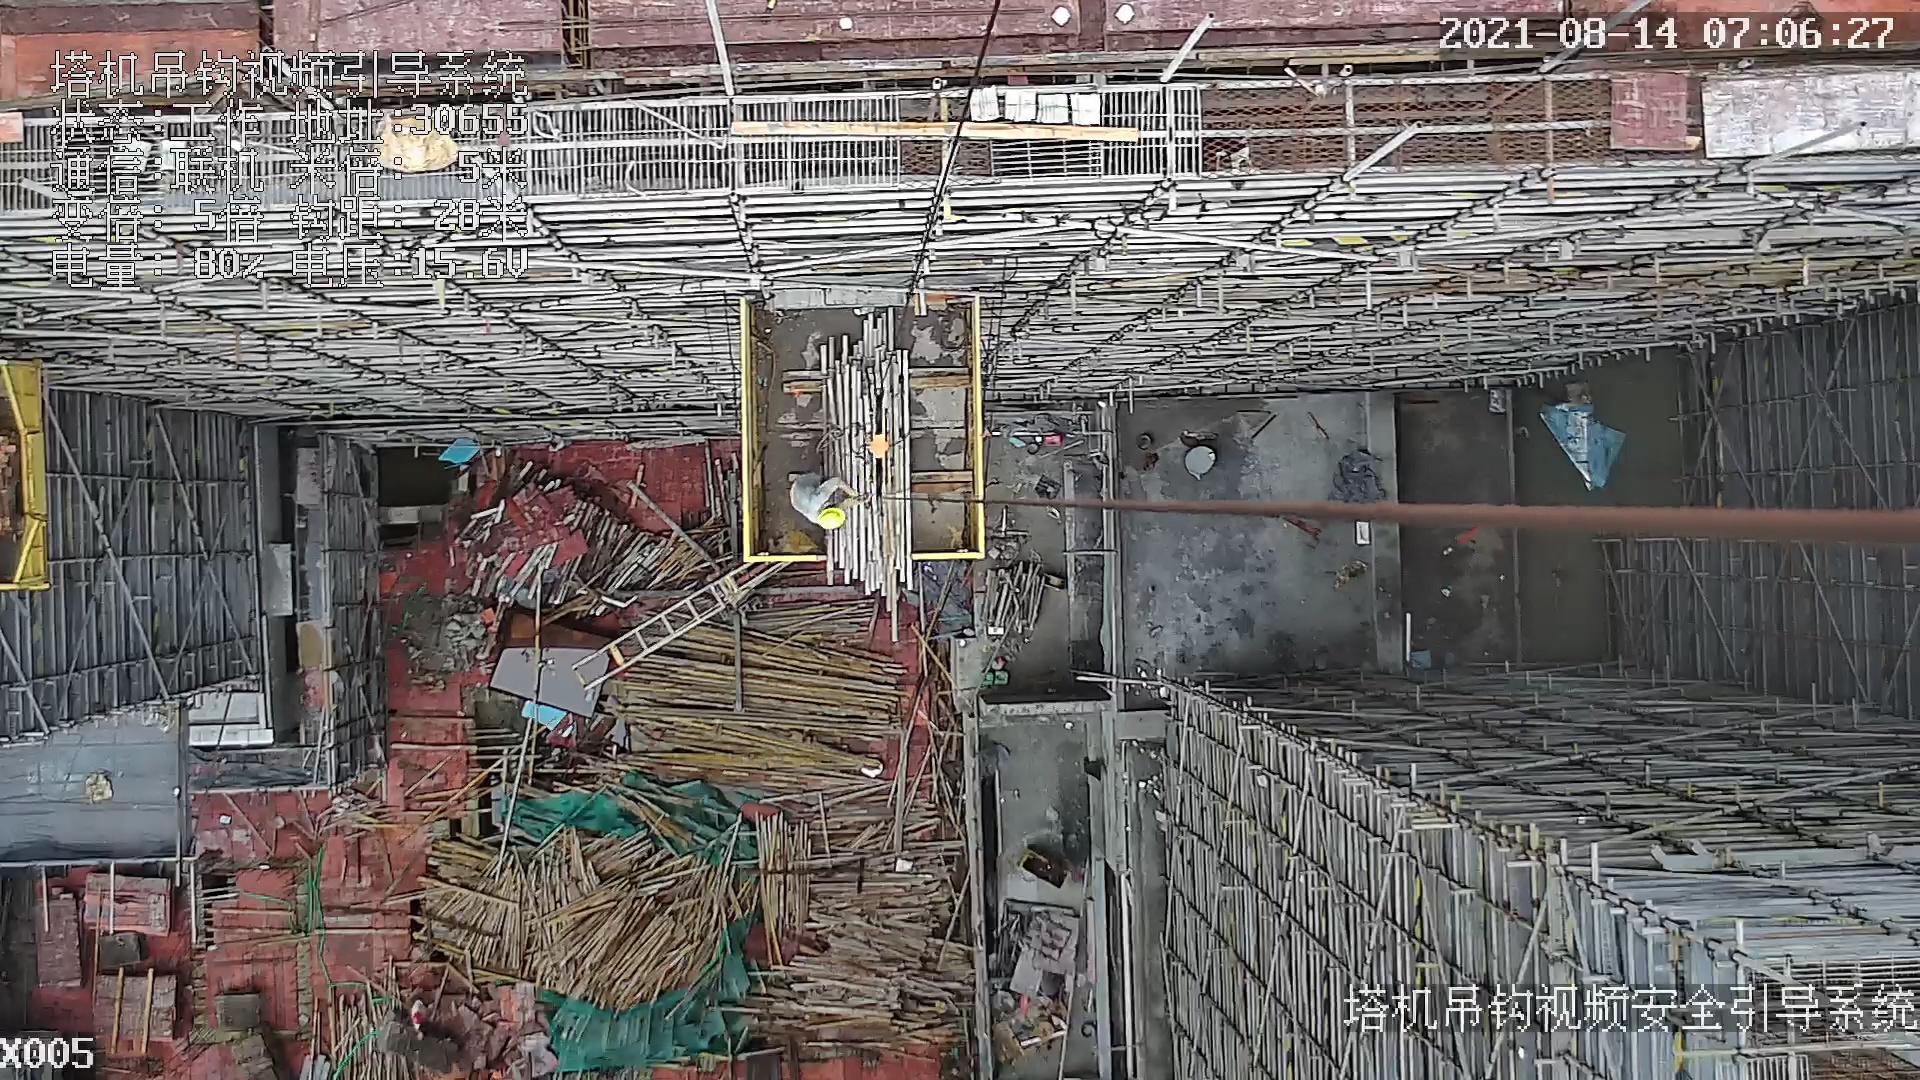helmet: (818, 506, 847, 530)
hook: (854, 385, 899, 503)
person: (782, 462, 858, 535)
